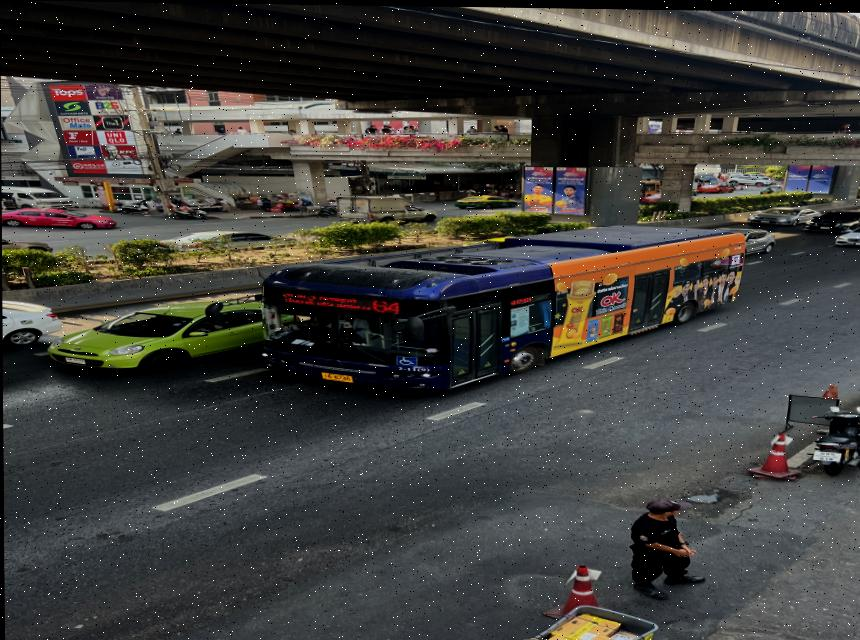Bus Line Number: (368, 295, 406, 313)
Bus Side Number: (393, 365, 433, 373)
Destination Sign: (276, 291, 369, 312)
TSB-Bus: (260, 225, 749, 393)
